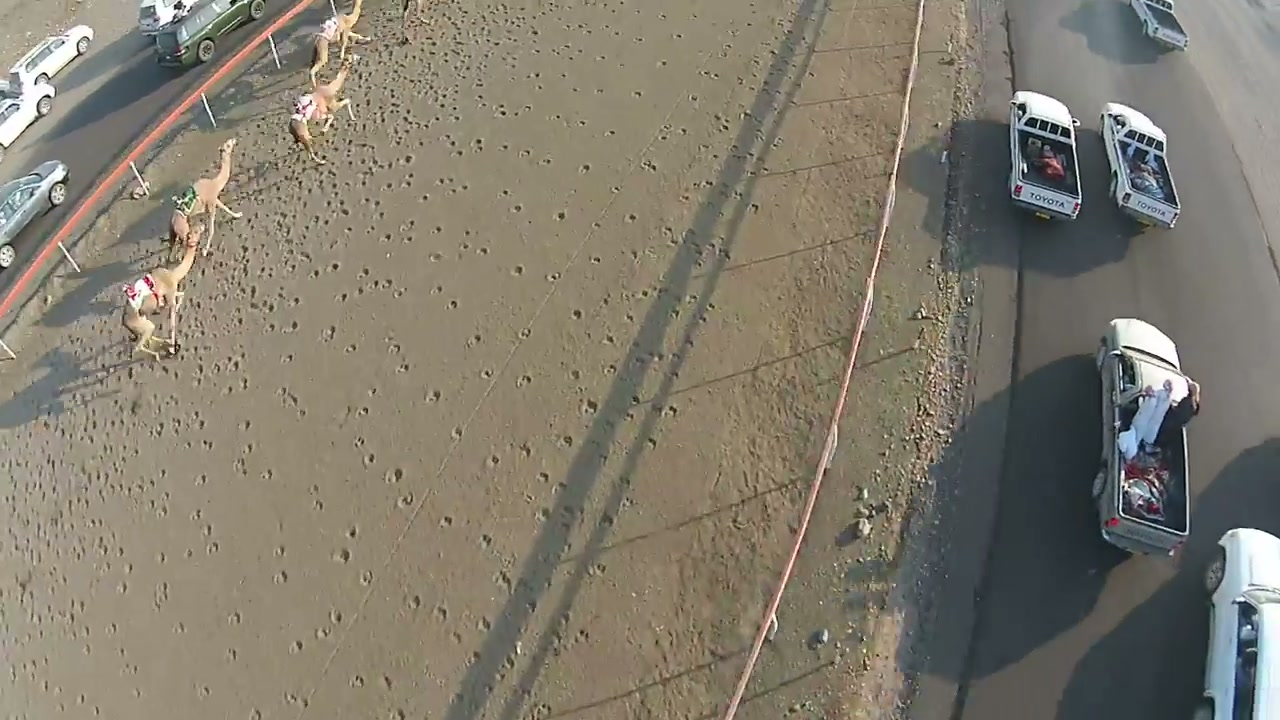animal_footprint: (271, 15, 786, 706), (22, 9, 473, 695)
